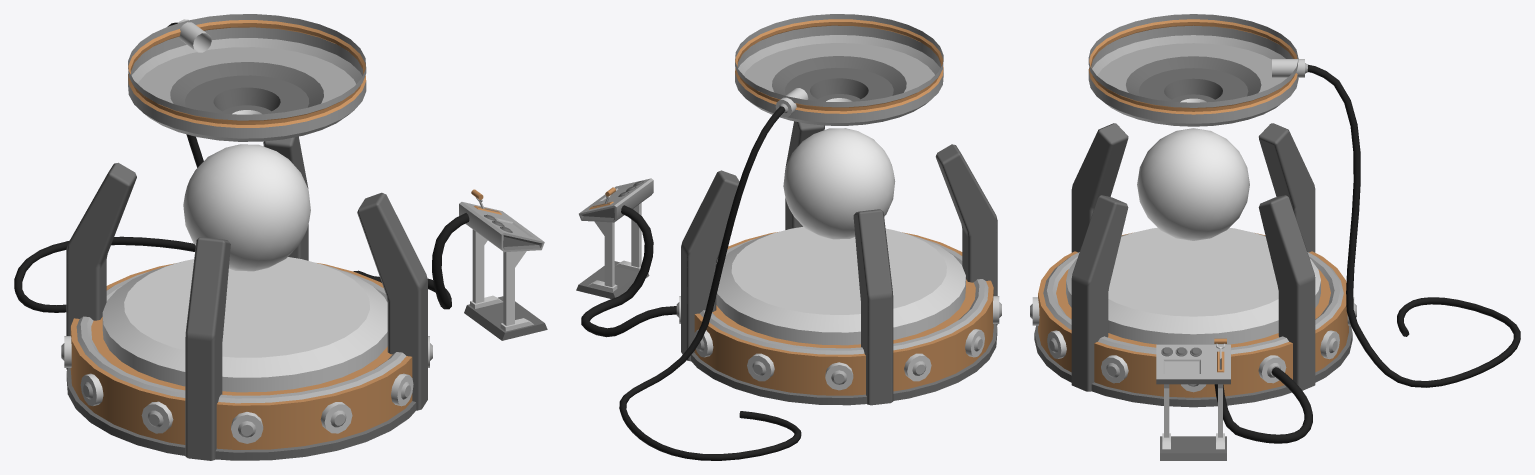
The model's file is reactor.fbx.
The picture shows the model from 3 angles, left to right: view 1: azimuth 30°, elevation 25°; view 2: azimuth 150°, elevation 25°; view 3: azimuth 270°, elevation 25°; orthographic projection. The views are drawn at different scales.
Parts seen in each view (by area): view 1: Reactor; view 2: Reactor; view 3: Reactor.
Boxes of the visible parts, box(x1,y1,x2,y2) form: Reactor: box(14, 14, 547, 460); Reactor: box(576, 14, 1001, 460); Reactor: box(1030, 14, 1520, 460).
Size of the model in its own units: 434 by 301 by 474.
